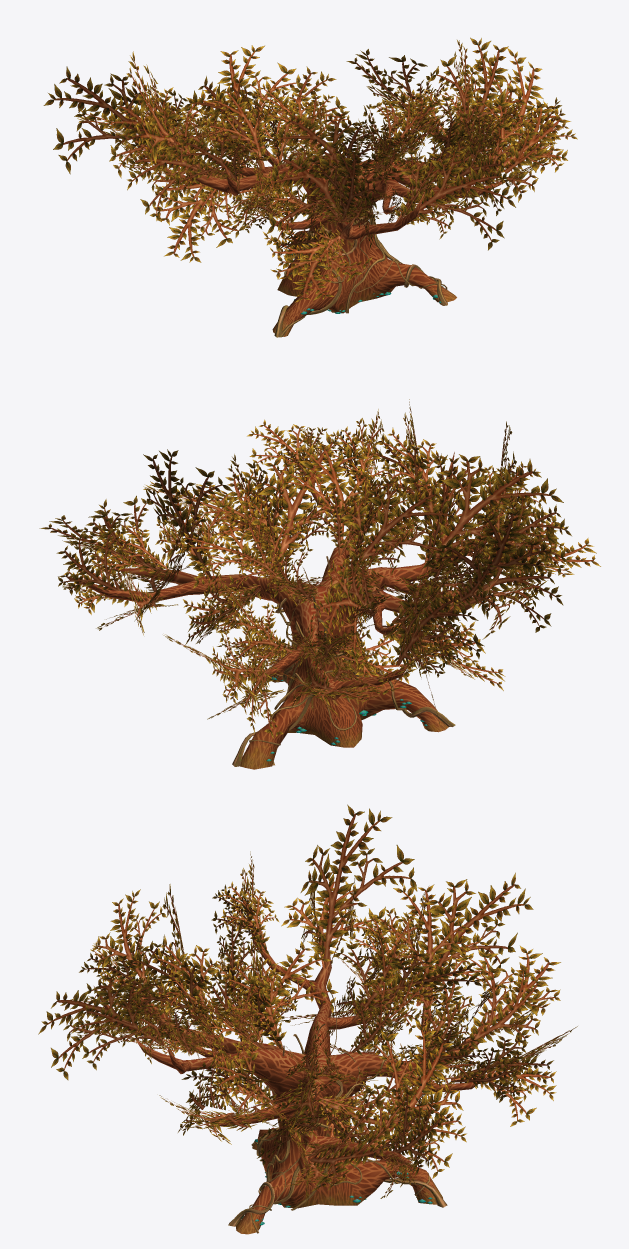
The model's file is BigTree.obj.
3 renders of one model, top to bottom at view 1: azimuth 30°, elevation 25°; view 2: azimuth 150°, elevation 25°; view 3: azimuth 270°, elevation 25°, orthographic. The views are drawn at different scales.
Parts seen in each view (by area): view 1: polySurface161; view 2: polySurface161; view 3: polySurface161.
Boxes of the visible parts, x1=… form: polySurface161: x1=43, y1=37, x2=577, y2=337; polySurface161: x1=39, y1=399, x2=600, y2=769; polySurface161: x1=38, y1=804, x2=577, y2=1234.
Size of the model in its own units: 150 by 75.86 by 135.
Materials: 3 (3 with a texture image).
